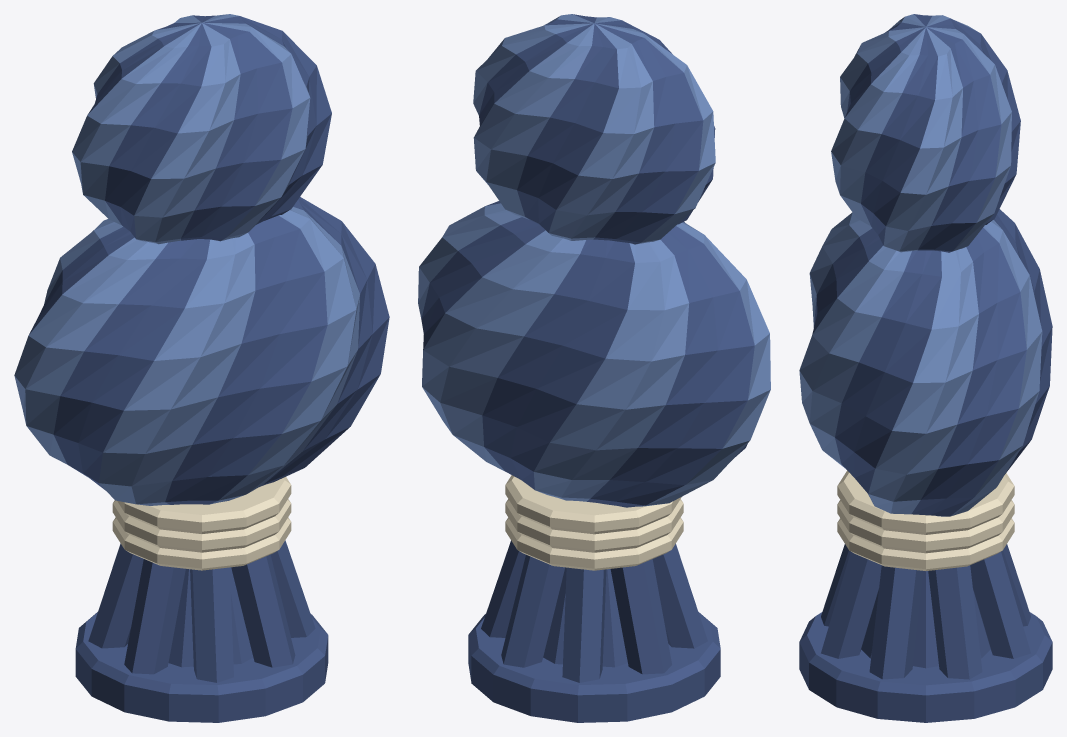
File: KANJI_26_ITO.fbx
3 views of the same model, side by side, from view 1: azimuth 30°, elevation 25°; view 2: azimuth 150°, elevation 25°; view 3: azimuth 270°, elevation 25° (orthographic).
Parts seen in each view (by area): view 1: SM_KANJI_26_Ito; view 2: SM_KANJI_26_Ito; view 3: SM_KANJI_26_Ito.
Part boxes in pixels (bbox=[...]): SM_KANJI_26_Ito: bbox=[14, 14, 389, 722]; SM_KANJI_26_Ito: bbox=[418, 14, 770, 722]; SM_KANJI_26_Ito: bbox=[799, 14, 1052, 722].
Bounding box in the file's own units: 0.16 × 0.28 × 0.1.
